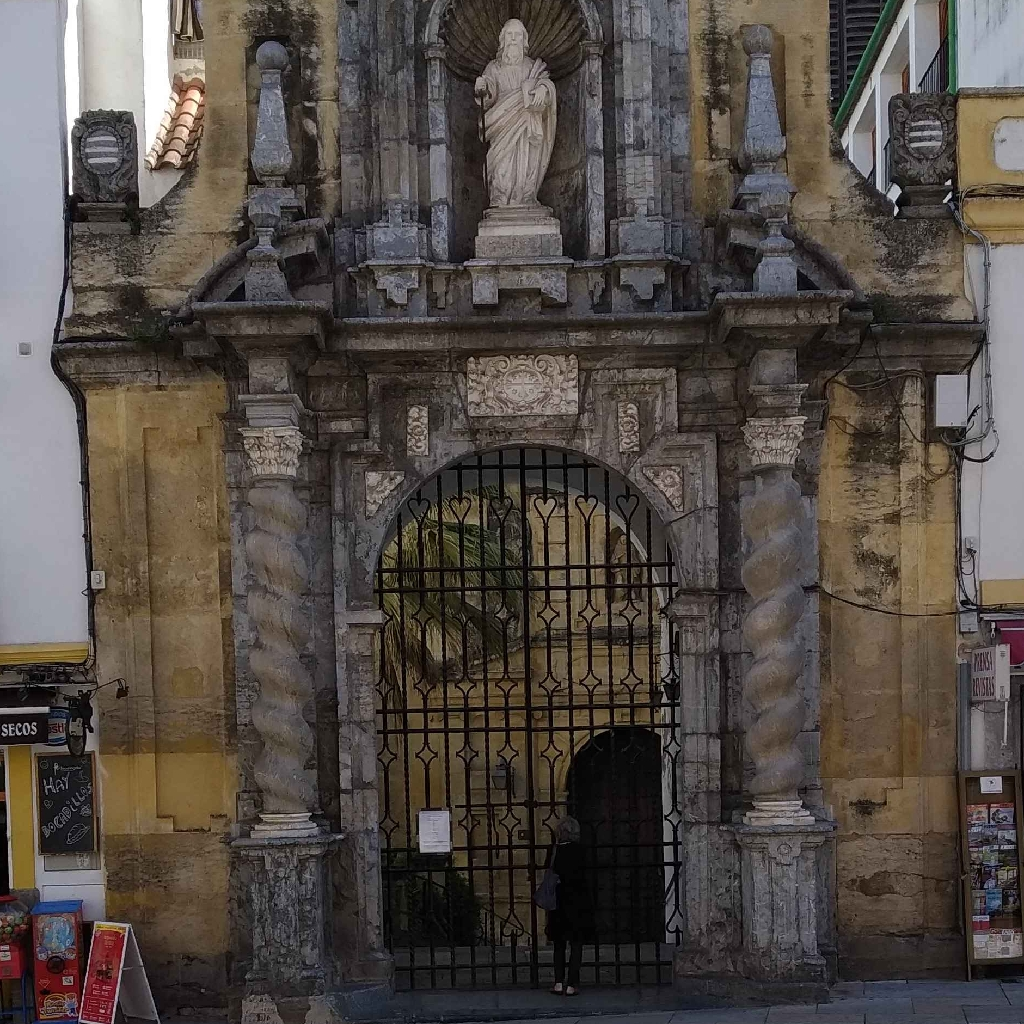arco-medio-punto: (359, 429, 693, 654)
columna-salomonica: (237, 457, 320, 826), (735, 467, 814, 817)
fronton-partido: (184, 203, 879, 341)
